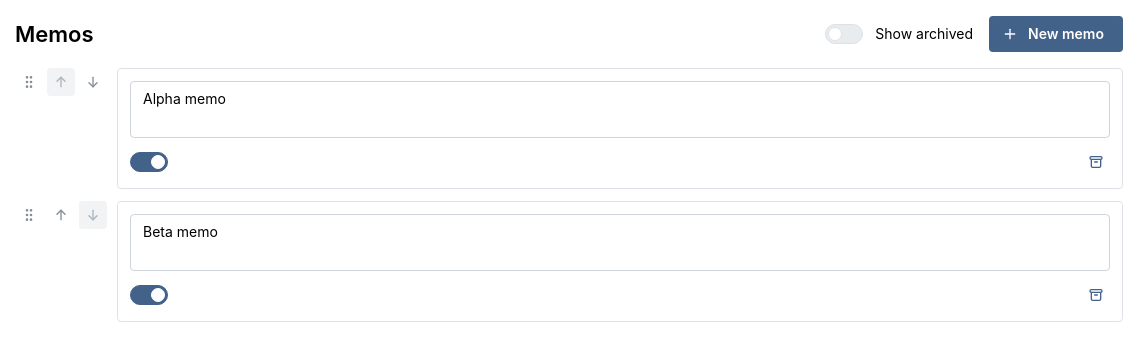
Test case: the archive axis (DoD-11, DoD-12, DoD-13) › DoD-11 (US-128.AC-1): archiving a memo removes it from the working list
Expected: the text box named "Memo 1 body" is shown, [130,81,1110,138]
Click the button named "Archive memo 1": (1096,162) [1082,148,1110,176]
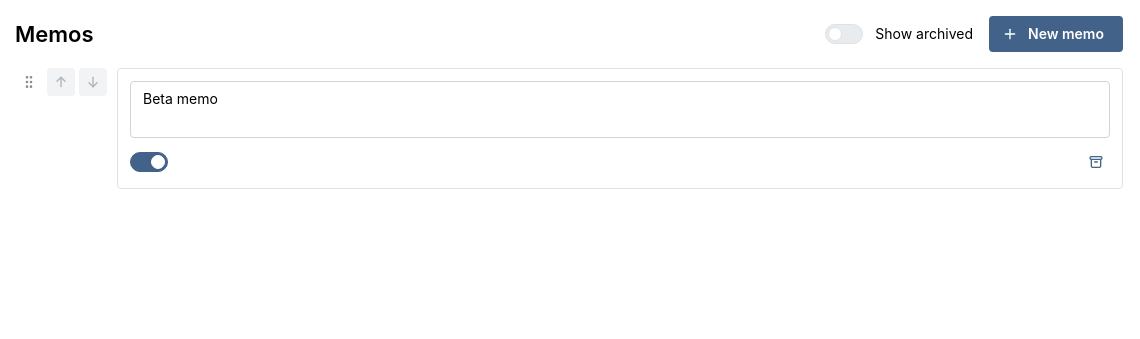
Expected: the field showing "Alpha memo" is not shown
Result: the text box named "Memo 1 body" is shown at [130,81,1110,138]
